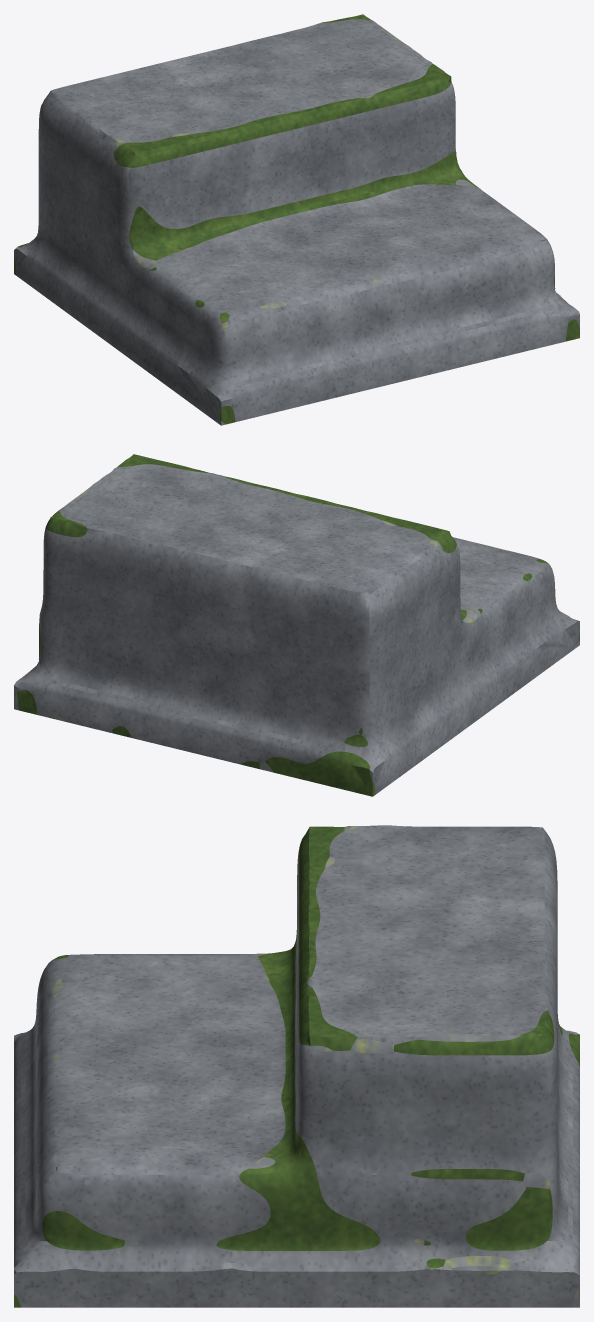
Rendered from ruin_steps_half.glb.
The picture shows the model from 3 angles, top to bottom: view 1: azimuth 30°, elevation 25°; view 2: azimuth 150°, elevation 25°; view 3: azimuth 270°, elevation 25°; orthographic projection. The views are drawn at different scales.
Parts seen in each view (by area): view 1: wilds_ruins_ruin_steps_half; view 2: wilds_ruins_ruin_steps_half; view 3: wilds_ruins_ruin_steps_half.
Boxes of the visible parts, bbox=[...] form: wilds_ruins_ruin_steps_half: bbox=[14, 14, 579, 425]; wilds_ruins_ruin_steps_half: bbox=[14, 454, 579, 796]; wilds_ruins_ruin_steps_half: bbox=[14, 825, 579, 1307].
Bounding box in the file's own units: 0.9896 × 0.4948 × 0.9896.
3 materials, 3 textured.
